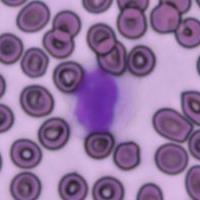M: (67, 66, 136, 136)
